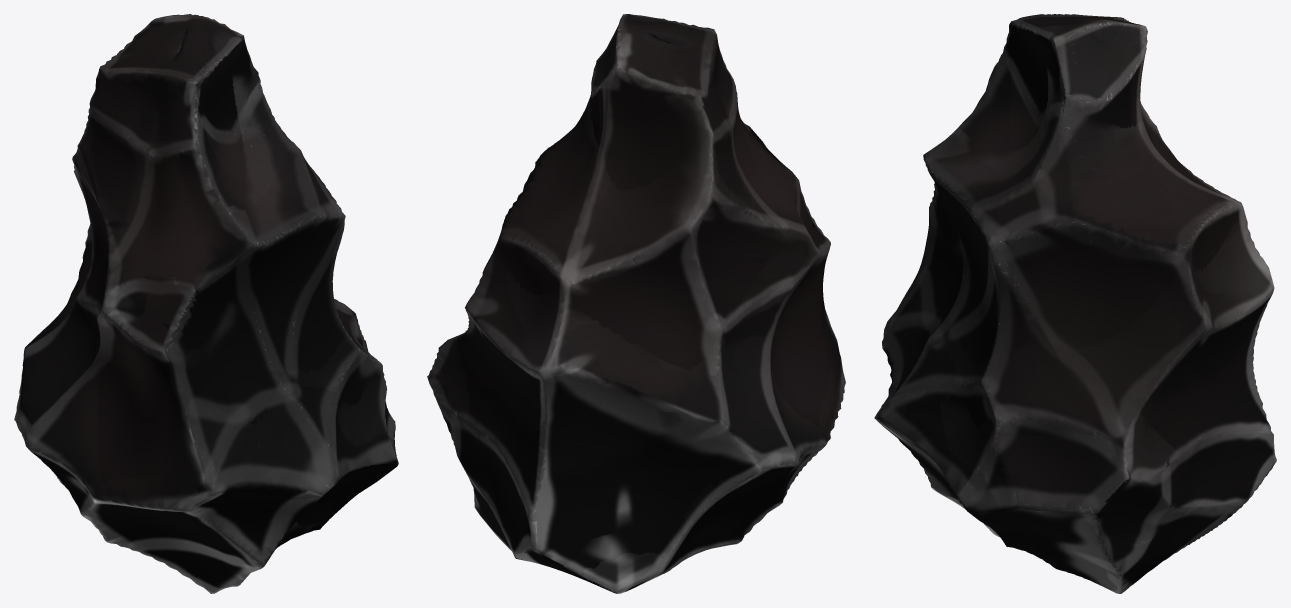
File: Rock.glb
3 views of the same model, side by side, from view 1: azimuth 30°, elevation 25°; view 2: azimuth 150°, elevation 25°; view 3: azimuth 270°, elevation 25° (orthographic). The views are drawn at different scales.
Visible parts, largest first — view 1: Cube.004; view 2: Cube.004; view 3: Cube.004.
Boxes of the visible parts, bbox=[...] form: Cube.004: bbox=[14, 14, 398, 593]; Cube.004: bbox=[427, 14, 845, 593]; Cube.004: bbox=[874, 14, 1276, 593].
Size of the model in its own units: 35.94 by 53.58 by 36.
Materials: 1 (1 with a texture image).
